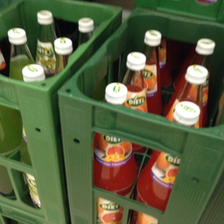juice: (134, 98, 200, 224), (92, 82, 134, 222)
